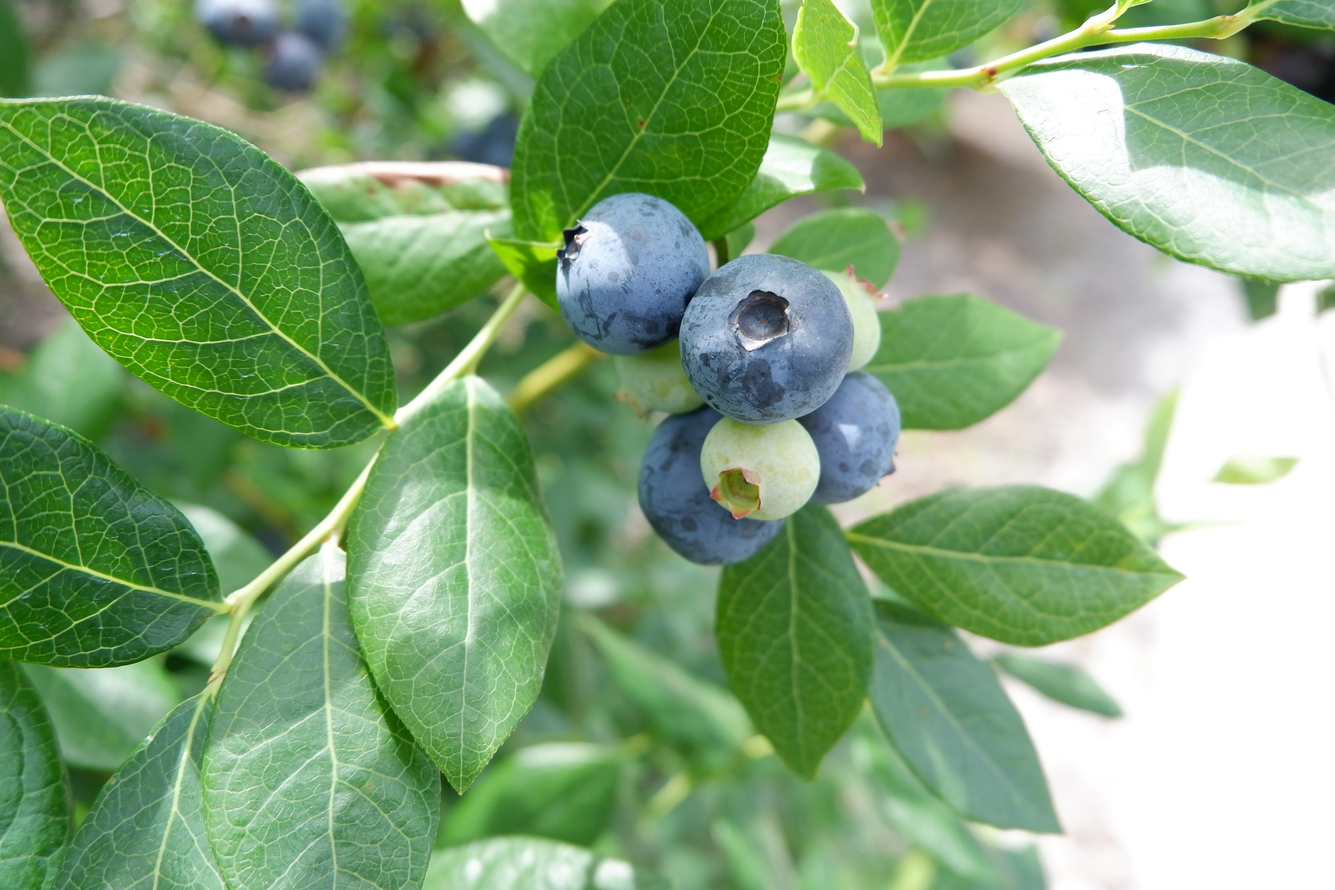Immature: (702, 419, 818, 520), (618, 341, 697, 416), (829, 264, 878, 368)
Mature: (683, 258, 852, 418), (558, 198, 707, 350), (641, 409, 775, 562), (801, 373, 899, 501)
